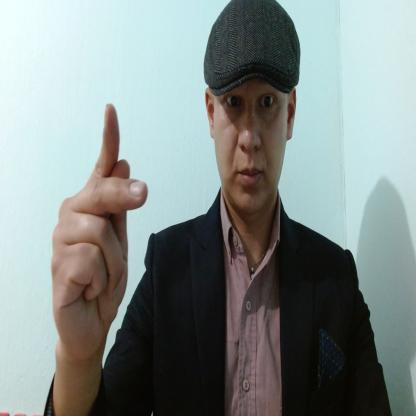P: (50, 100, 151, 352)
